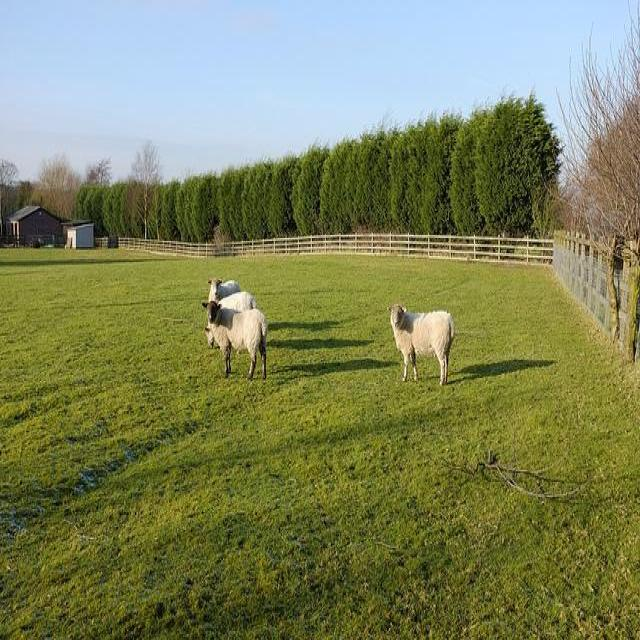Sheep: (387, 303, 456, 387), (203, 302, 268, 380), (205, 292, 259, 351)
